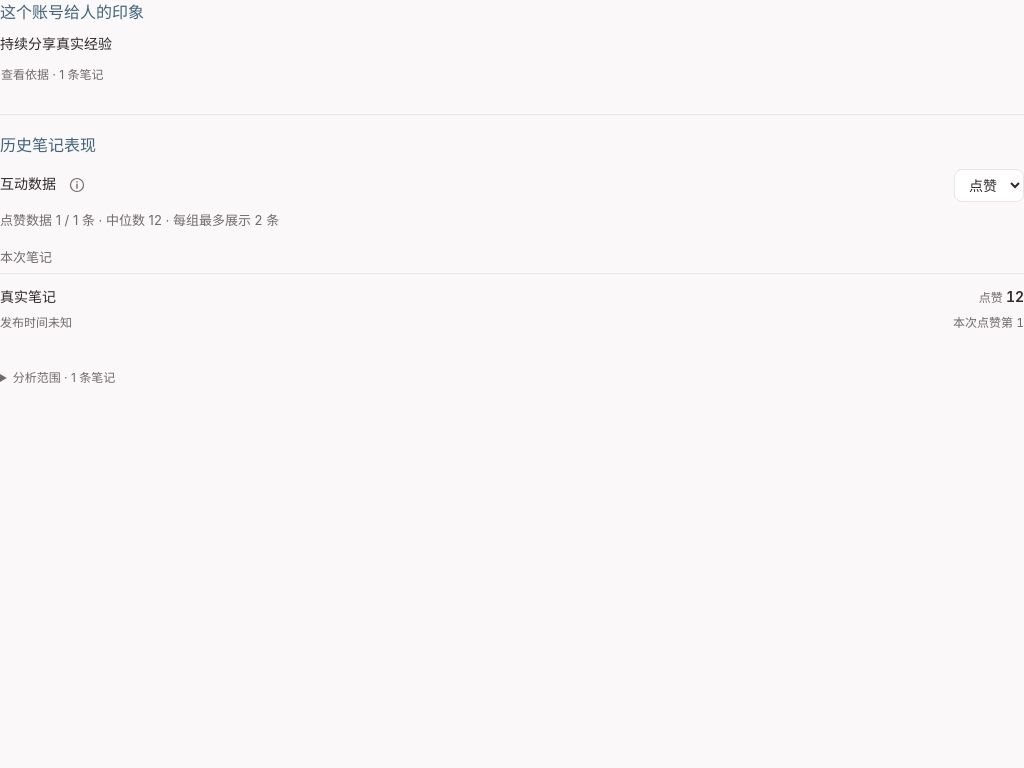
Test: shows snapshot-backed account evidence and opens the cited note
This screenshot has width=1024, height=768.
Expected: the text "持续分享真实经验" is shown, [0,35,112,52]
Expected: the text "来自本次快照的正文" is not shown
What coordinates should you click on to do the following:
click the button "查看依据 · 1 条笔记"
I would click on:
 (52, 75)
Its box is [0,60,104,90].
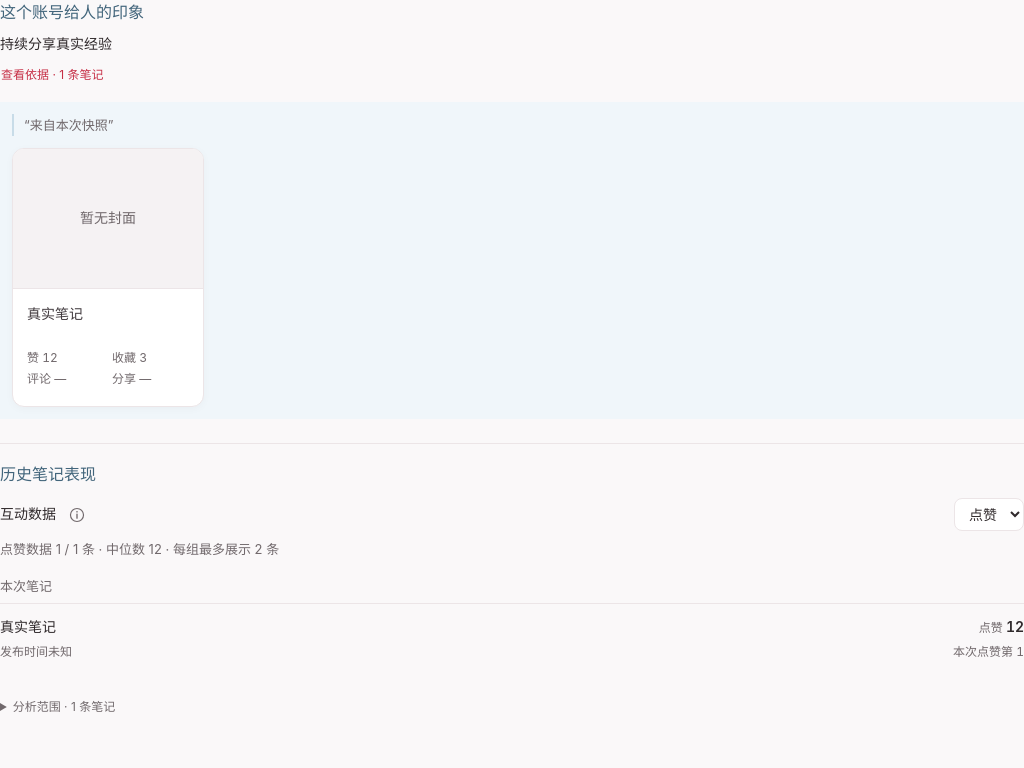
What coordinates should you click on to do the following:
click the button "暂无封面 真实笔记 赞 12 收藏 3 评论 — 分享 —"
I would click on:
 (108, 278)
Its box is [12,148,204,407].
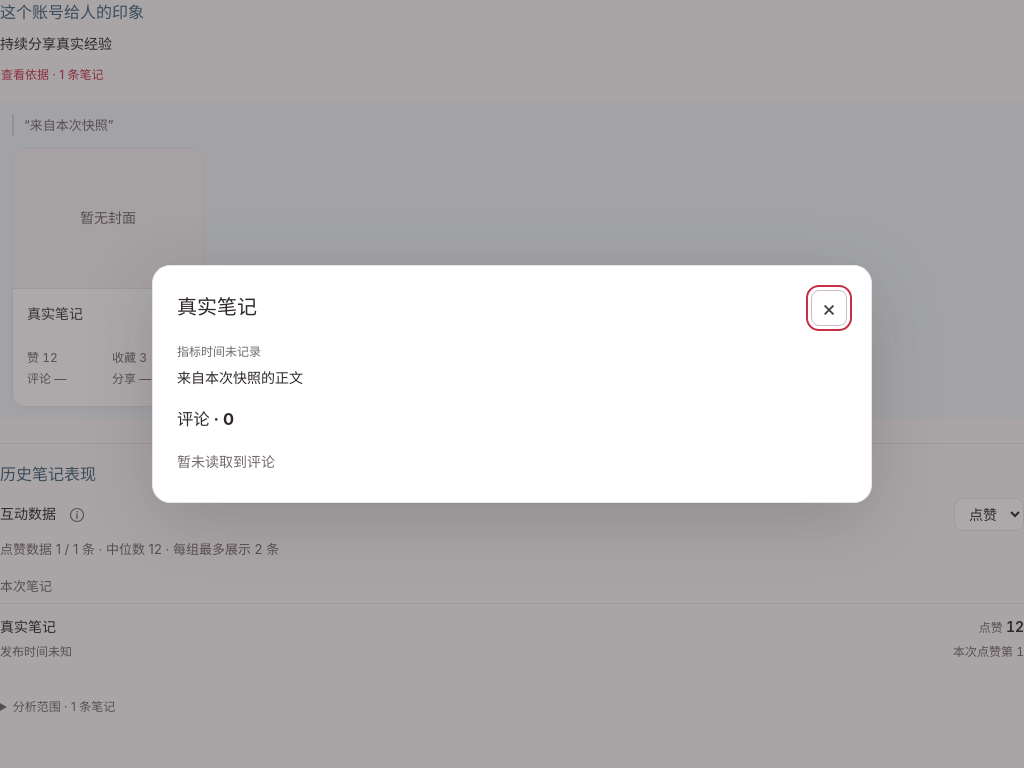
Now the text "来自本次快照的正文" is shown, box [177,369,303,386]
